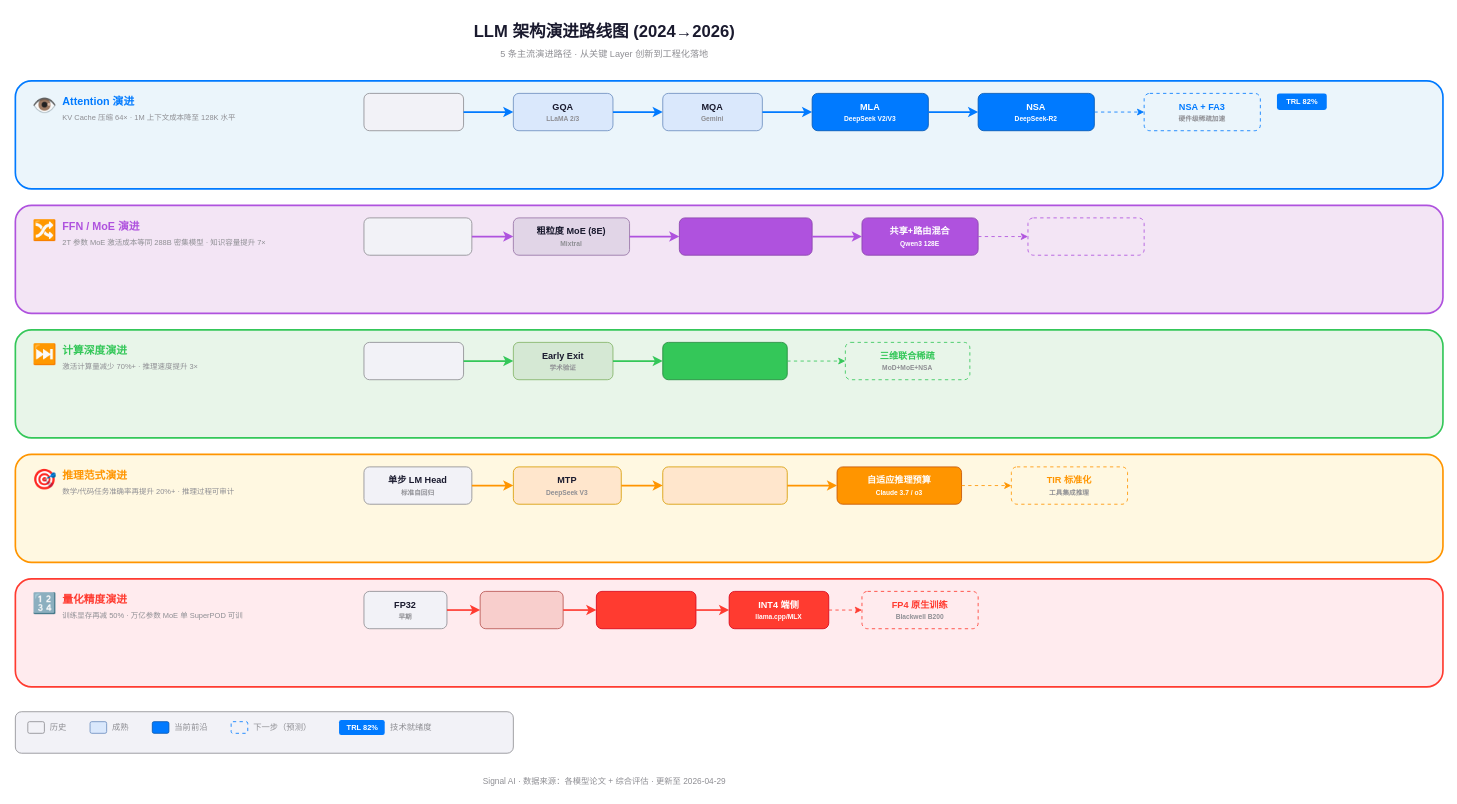
Some shapes in this 1457 by 804 pixel diagram are drawn without their labels. Each missing label, with the centre of its shape:
"BF16 主流训练" belongs at pixel 521 610.
"Dense FFN GPT/LLaMA" belongs at pixel 417 236.
"Expert Merging 动态合并/拆分" belongs at pixel 1085 236.
"FP8 训练 DeepSeek V3" belongs at pixel 646 610.
"MHA GPT-3/4" belongs at pixel 413 112.
"MoD (Gemma 3) 滑动窗口注意力" belongs at pixel 724 361.
"Speculative Decoding 投机解码" belongs at pixel 724 485.
"固定 N 层 所有模型" belongs at pixel 413 361.
"细粒度 MoE (256E) DeepSeek V3" belongs at pixel 745 236.
